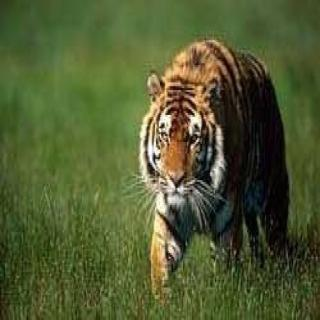Tiger: (128, 30, 314, 291)
